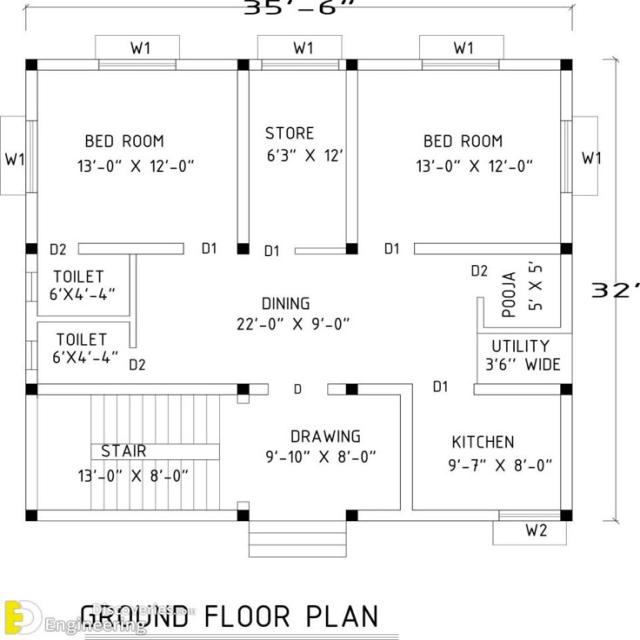column: (342, 241, 364, 258), (22, 56, 42, 74), (556, 56, 576, 74), (234, 240, 252, 259), (234, 380, 253, 398), (22, 380, 42, 397), (555, 507, 576, 523), (343, 507, 361, 525), (22, 240, 41, 257), (344, 380, 361, 399), (557, 382, 576, 399), (234, 507, 254, 523), (557, 240, 575, 257), (24, 507, 42, 523), (235, 56, 252, 72), (344, 56, 360, 73)
